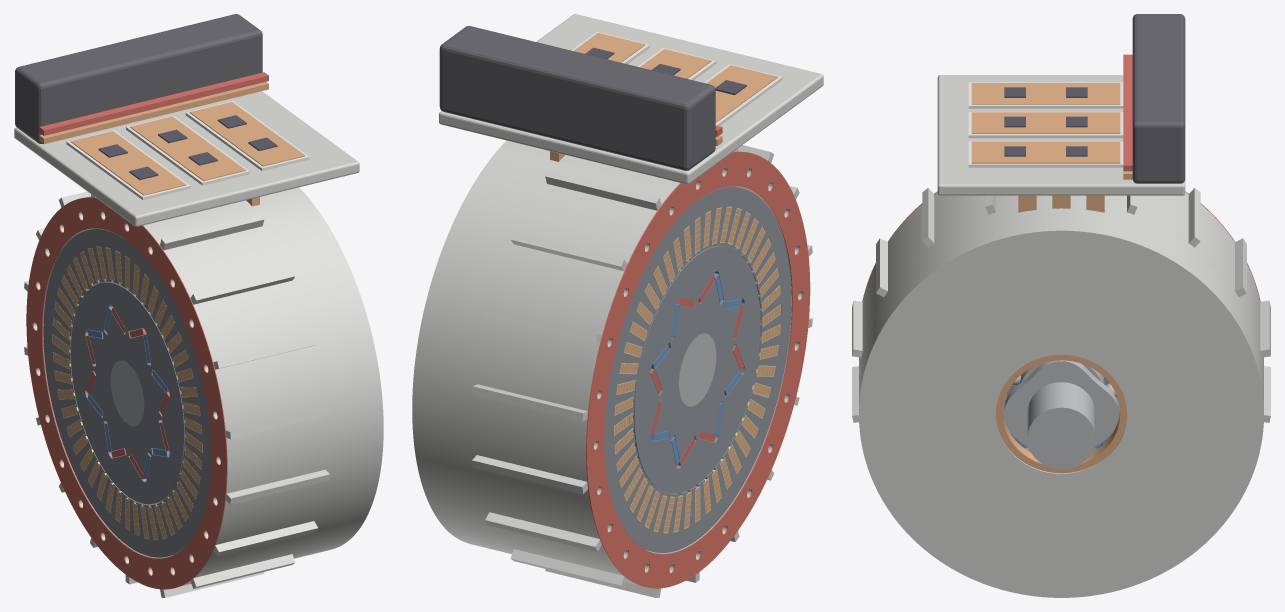
File: emotor.glb
The picture shows the model from 3 angles, left to right: view 1: azimuth 30°, elevation 25°; view 2: azimuth 150°, elevation 25°; view 3: azimuth 270°, elevation 25°; orthographic projection. The views are drawn at different scales.
Visible parts, largest first — view 1: carcaca, inversor_base, rotor, capacitor, estator, barramento_dc; view 2: carcaca, capacitor, rotor, estator, inversor_base; view 3: carcaca, inversor_base, capacitor, rotor, rolamentos, barramento_dc, barramentos.
Part boxes in pixels (x1,y1,x2,y2): carcaca: (24, 187, 383, 597); inversor_base: (14, 91, 359, 226); rotor: (70, 281, 185, 504); capacitor: (15, 14, 262, 143); estator: (43, 228, 211, 557); barramento_dc: (39, 72, 268, 144); carcaca: (412, 140, 812, 597); capacitor: (439, 26, 715, 170); rotor: (632, 245, 760, 493); estator: (604, 186, 791, 552); inversor_base: (439, 14, 823, 184); carcaca: (852, 188, 1270, 597); inversor_base: (937, 75, 1185, 195); capacitor: (1132, 14, 1185, 183); rotor: (1004, 360, 1118, 469); rolamentos: (995, 354, 1127, 473); barramento_dc: (1123, 54, 1132, 179); barramentos: (1018, 195, 1104, 212).
Bounding box in the file's own units: 195 × 350 × 271.
